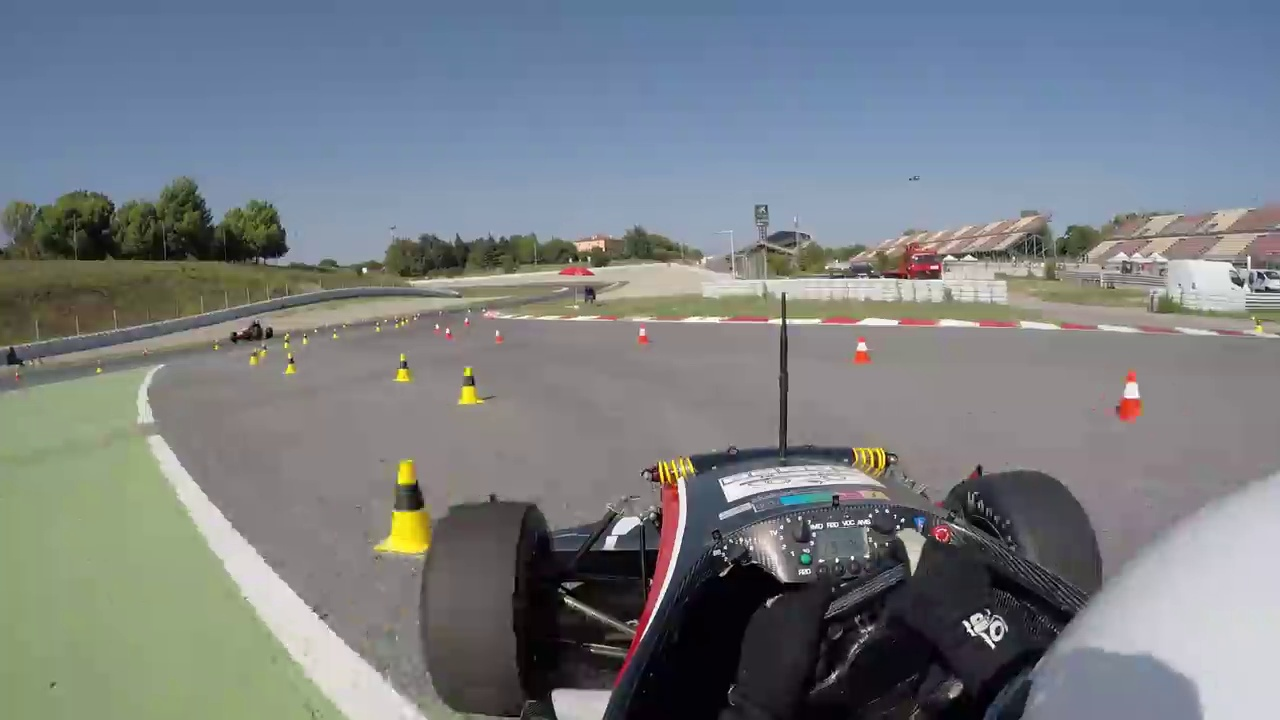Cone: (376, 456, 444, 561), (1115, 364, 1153, 425), (453, 367, 485, 406), (852, 331, 876, 363), (394, 352, 417, 384)
